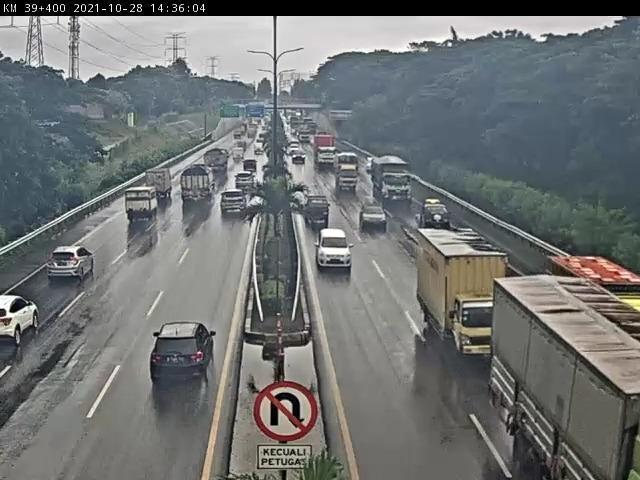car: (138, 309, 216, 382), (2, 290, 41, 353), (37, 253, 82, 297), (121, 191, 158, 228), (320, 223, 347, 265), (361, 199, 385, 231), (223, 192, 243, 227), (419, 194, 441, 222), (308, 190, 327, 217), (237, 176, 253, 195), (295, 149, 308, 171), (249, 157, 262, 174)
truck: (480, 248, 638, 480), (396, 221, 487, 341), (572, 239, 640, 313), (375, 156, 412, 199), (336, 156, 359, 191), (189, 166, 210, 202), (142, 174, 169, 197), (315, 136, 332, 171), (200, 148, 227, 167)
